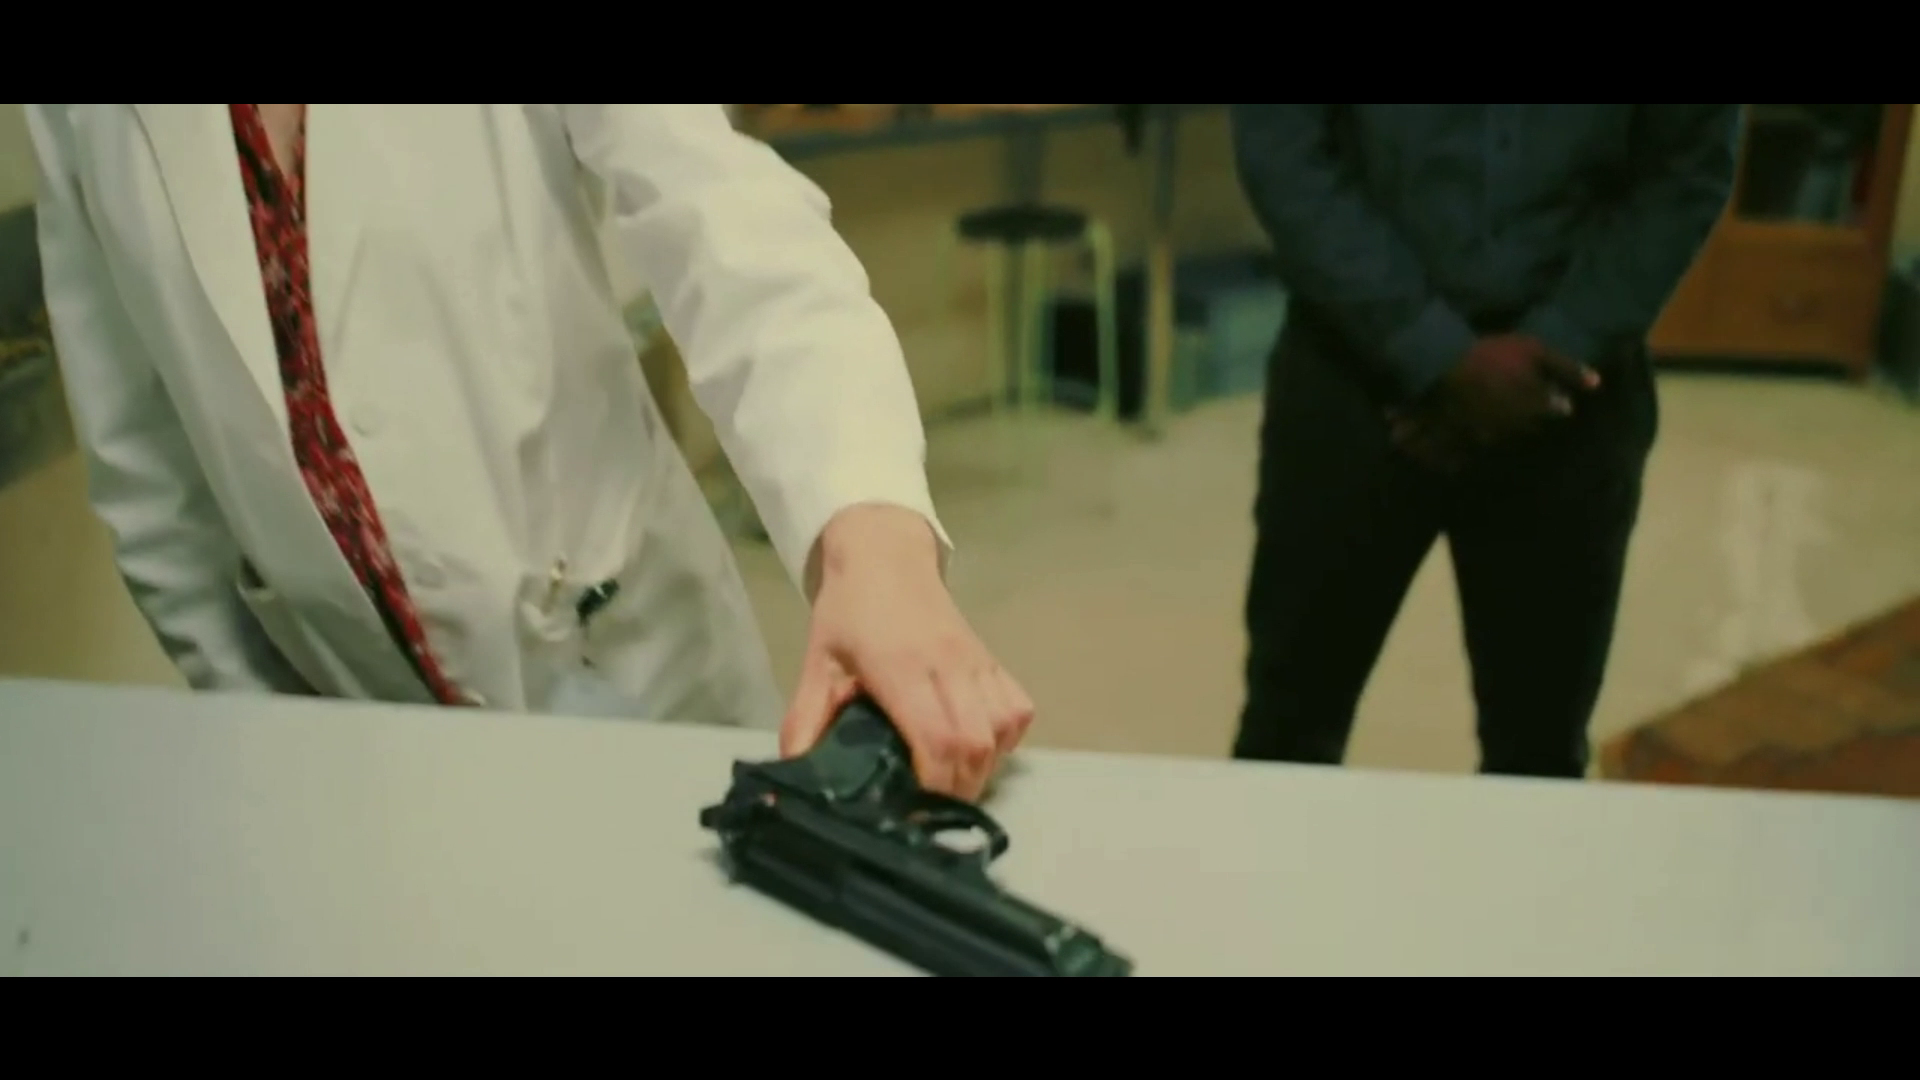SIG P226: (704, 694, 1149, 976)
